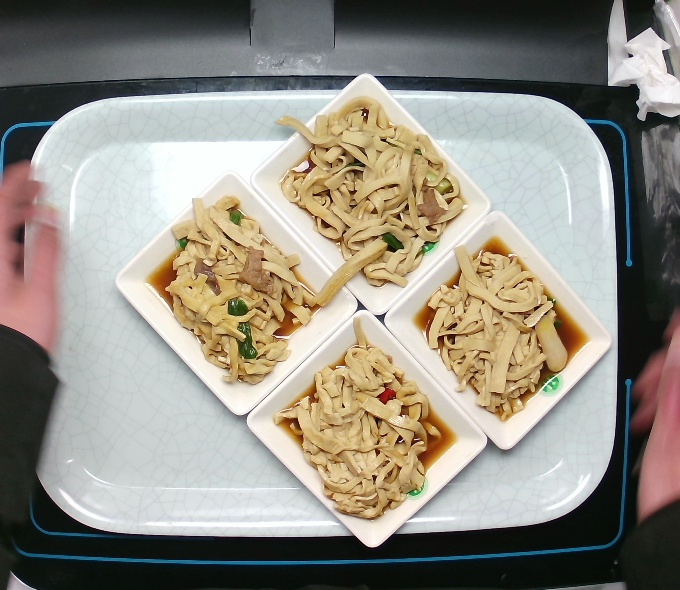wcq-QianZhang: (271, 94, 465, 310), (143, 188, 319, 386), (277, 319, 453, 517), (411, 227, 587, 425)
